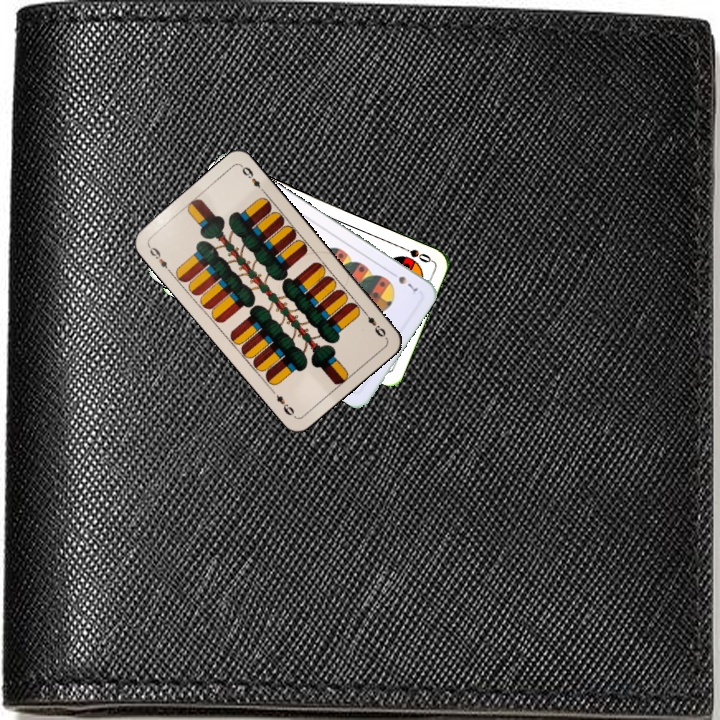E9: (359, 306, 389, 341), (144, 241, 174, 276)
S7: (386, 267, 420, 294)
SO: (395, 242, 434, 265)
